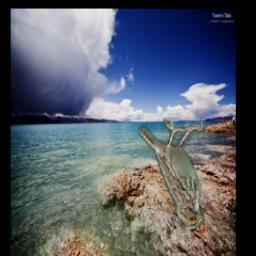Sparrow: (138, 118, 205, 230)
